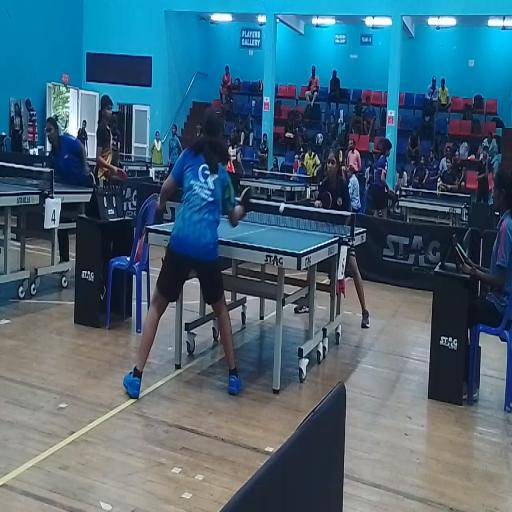ball: (278, 202, 285, 214)
